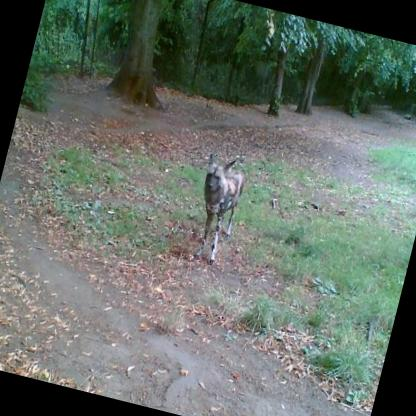African_hunting_dog: (182, 149, 252, 266)
